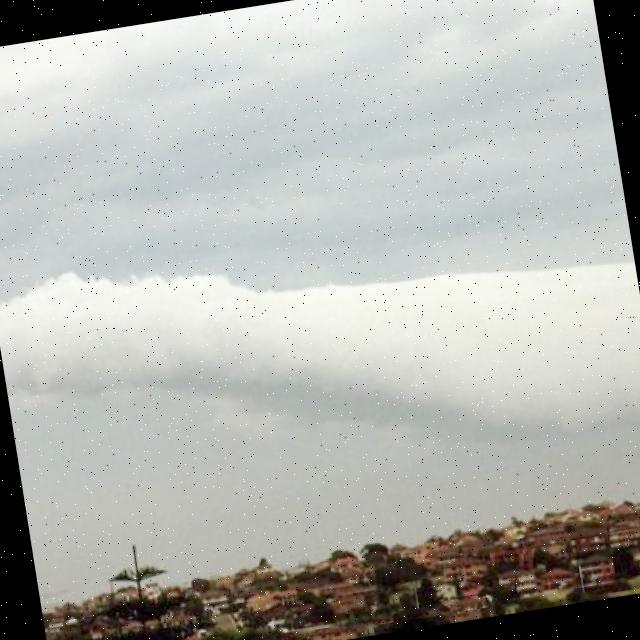Sc: (1, 84, 640, 531)
